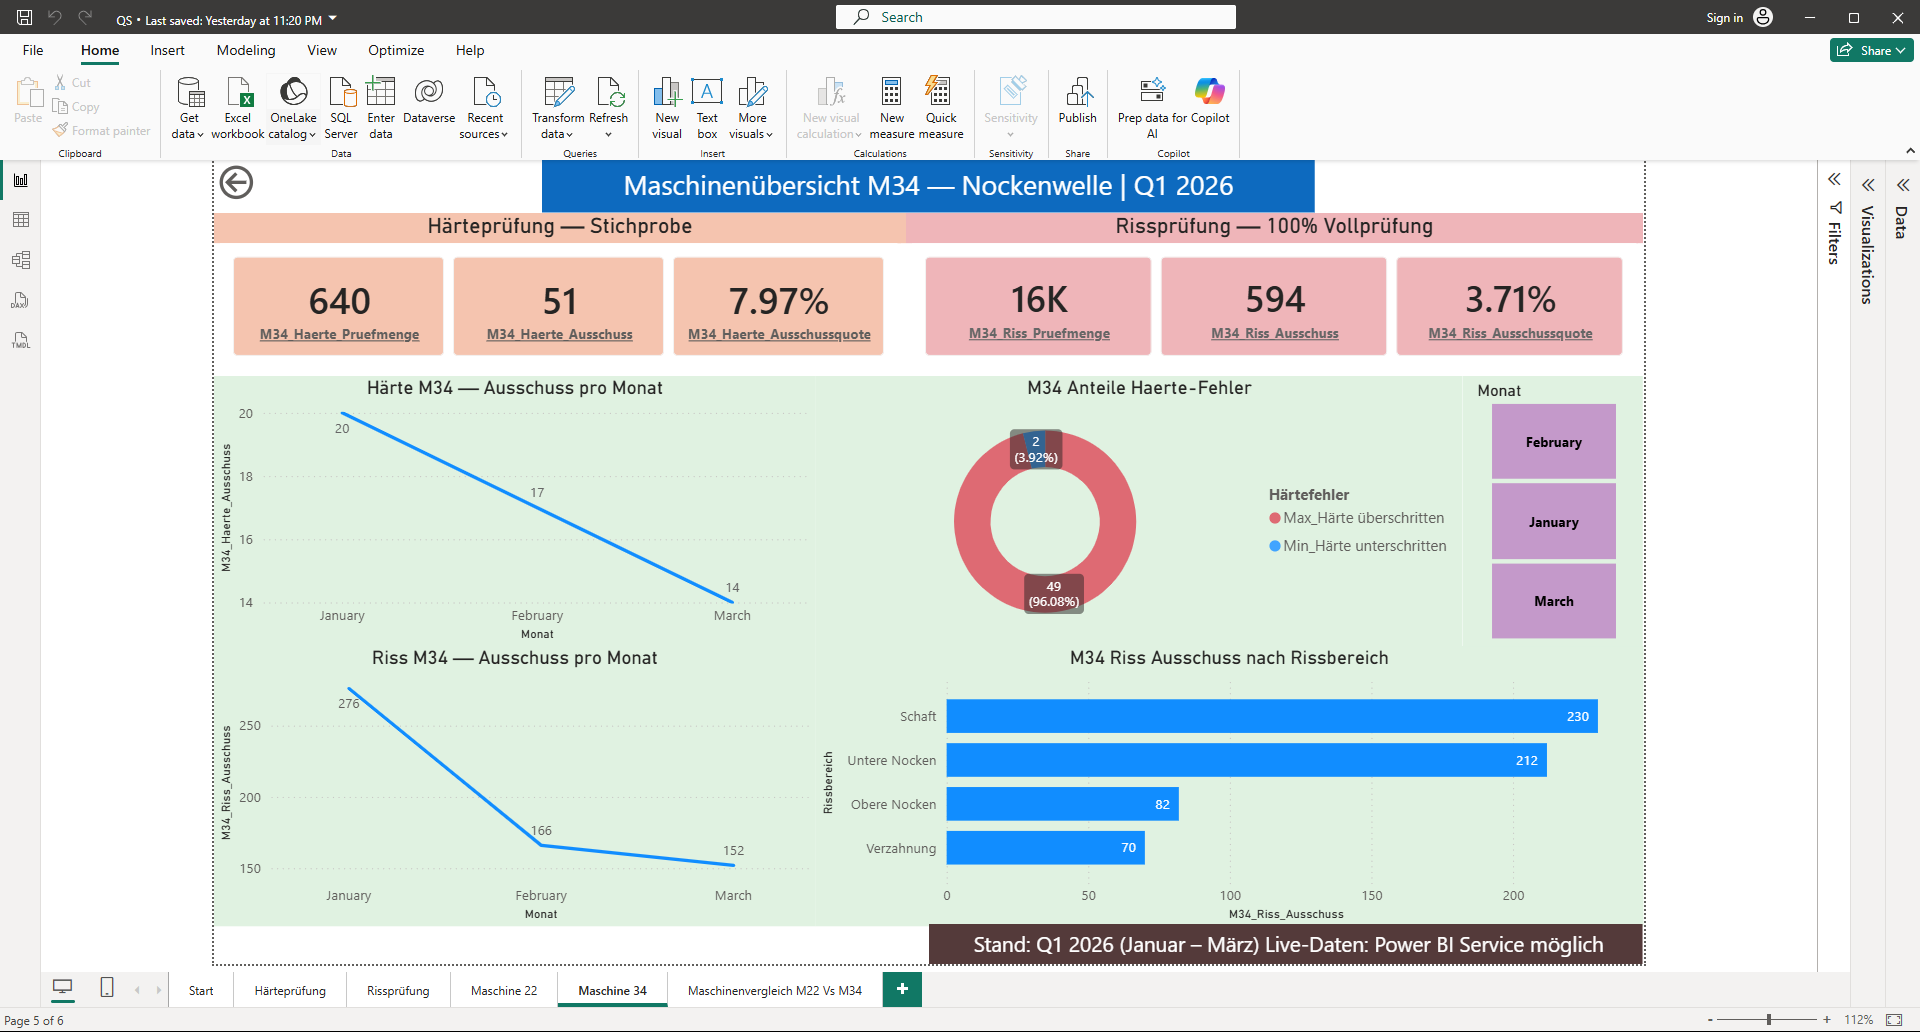

The dashboard page shown, as its layout file describes it:
{"tool":"powerbi","page":{"name":"Maschine 34","canvas":[1280,720],"ordinal":4},"visuals":[{"type":"textbox","box":[293.7,0,692.2,47.5],"z":0},{"type":"cardVisual","title":"Härteprüfung — Stichprobe","fields":{"Data":["Datumstabelle.M34_Haerte_Pruefmenge","Datumstabelle.M34_Haerte_Ausschuss","Datumstabelle.M34_Haerte_Ausschussquote"]},"box":[0,47.5,619.7,146],"z":1000},{"type":"cardVisual","title":"Rissprüfung — 100% Vollprüfung","fields":{"Data":["Datumstabelle.M34_Riss_Pruefmenge","Datumstabelle.M34_Riss_Ausschuss","Datumstabelle.M34_Riss_Ausschussquote"]},"box":[619.7,47.5,660,146],"z":2000},{"type":"lineChart","title":"Härte M34 — Ausschuss pro Monat","fields":{"Category":["Datumstabelle.Date.Variation.Date Hierarchy.Month"],"Y":["Datumstabelle.M34_Haerte_Ausschuss"]},"box":[0,193.4,539.1,241.8],"z":3000},{"type":"lineChart","title":"Riss M34 — Ausschuss pro Monat","fields":{"Category":["Datumstabelle.Date.Variation.Date Hierarchy.Month"],"Y":["Datumstabelle.M34_Riss_Ausschuss"]},"box":[0.3,435.2,539.1,250.7],"z":4000},{"type":"donutChart","title":"M34 Anteile Haerte-Fehler","fields":{"Category":["Härteanlage_M34.n.i.o Härte_Beschreibung"],"Y":["Datumstabelle.M34_Haerte_Ausschuss"]},"box":[539.1,193.4,579.4,241.8],"z":5000},{"type":"barChart","title":"M34 Riss Ausschuss nach Rissbereich","fields":{"Y":["Datumstabelle.M34_Riss_Ausschuss"],"Category":["Rissprüfung_Für M34.Rissbereich"]},"box":[539.4,435.2,740.6,250.7],"z":6000},{"type":"slicer","fields":{"Values":["Datumstabelle.Monat"]},"box":[1118.5,193.4,161.2,241.8],"z":7000},{"type":"actionButton","box":[0,0,100,40],"z":8000},{"type":"textbox","box":[640.3,684.2,639.4,35.8],"z":9000}]}

Visuals, with their boxes on the page's 1280x720 design canvas (x1, y1, x2, y2). These are canvas units, not pixel positions in the 1920x1032 screenshot, which may show the page scaled, cropped or inside an application window:
textbox: <bbox>294, 0, 986, 48</bbox>
"Härteprüfung — Stichprobe" cardVisual: <bbox>0, 48, 620, 194</bbox>
"Rissprüfung — 100% Vollprüfung" cardVisual: <bbox>620, 48, 1280, 194</bbox>
"Härte M34 — Ausschuss pro Monat" lineChart: <bbox>0, 193, 539, 435</bbox>
"Riss M34 — Ausschuss pro Monat" lineChart: <bbox>0, 435, 539, 686</bbox>
"M34 Anteile Haerte-Fehler" donutChart: <bbox>539, 193, 1118, 435</bbox>
"M34 Riss Ausschuss nach Rissbereich" barChart: <bbox>539, 435, 1280, 686</bbox>
slicer - Datumstabelle.Monat: <bbox>1118, 193, 1280, 435</bbox>
actionButton: <bbox>0, 0, 100, 40</bbox>
textbox: <bbox>640, 684, 1280, 720</bbox>
